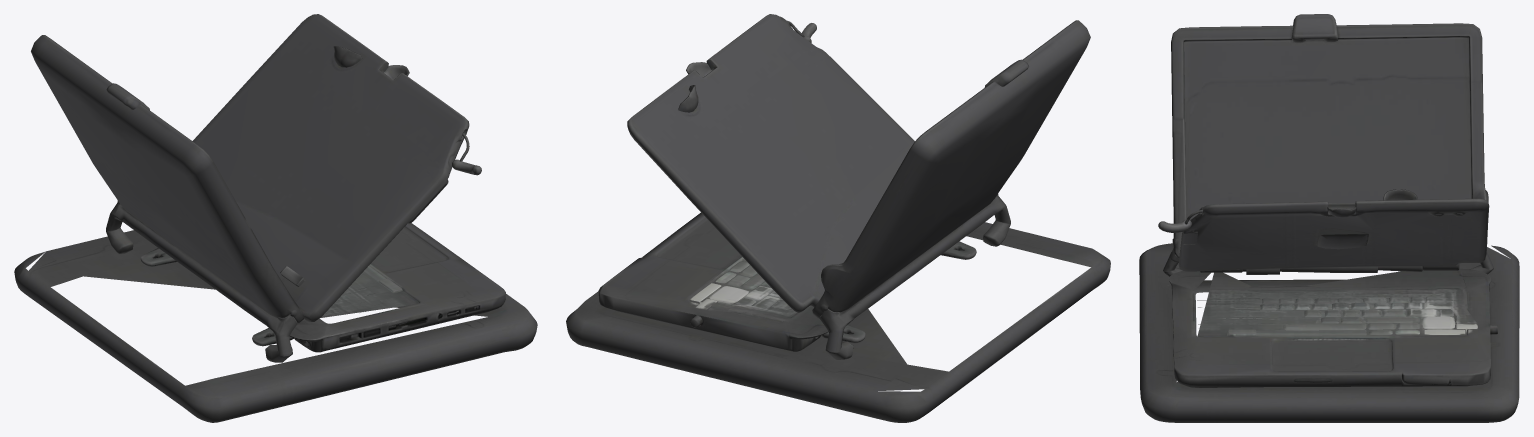
File: toonstudio_laptop.glb
3 renders of one model, left to right at view 1: azimuth 30°, elevation 25°; view 2: azimuth 150°, elevation 25°; view 3: azimuth 270°, elevation 25°, orthographic. The views are drawn at different scales.
Visible parts, largest first — view 1: tripo_7649bac9_177b_4be2_a330_7b04b0368ccb; view 2: tripo_7649bac9_177b_4be2_a330_7b04b0368ccb; view 3: tripo_7649bac9_177b_4be2_a330_7b04b0368ccb.
Part boxes in pixels (box(x1,y1,x2,y2)): tripo_7649bac9_177b_4be2_a330_7b04b0368ccb: box(14, 14, 537, 422); tripo_7649bac9_177b_4be2_a330_7b04b0368ccb: box(566, 14, 1110, 422); tripo_7649bac9_177b_4be2_a330_7b04b0368ccb: box(1139, 14, 1519, 422).
Size of the model in its own units: 0.36 by 0.2724 by 0.3596.
Materials: 1 (1 with a texture image).
